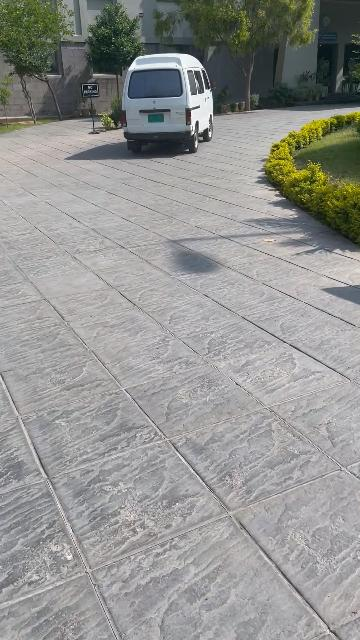plate: (147, 112, 167, 124)
